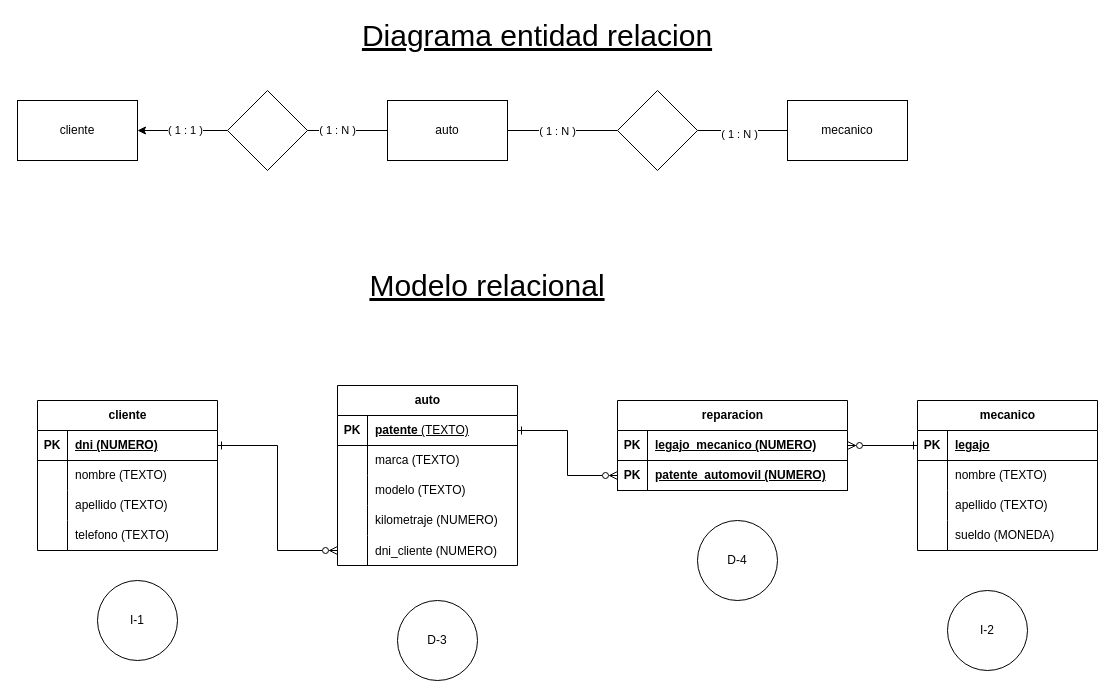
The diagram is 1115 pixels wide and 698 high, and some of its shapes have lost their labels. The shapes that lost their labels are listed below. From the top down, each one's centre as x and y in pixels, then its label:
At point (267, 130): "compra ( 1 : N )".
At point (657, 130): "repara ( N : N )".
